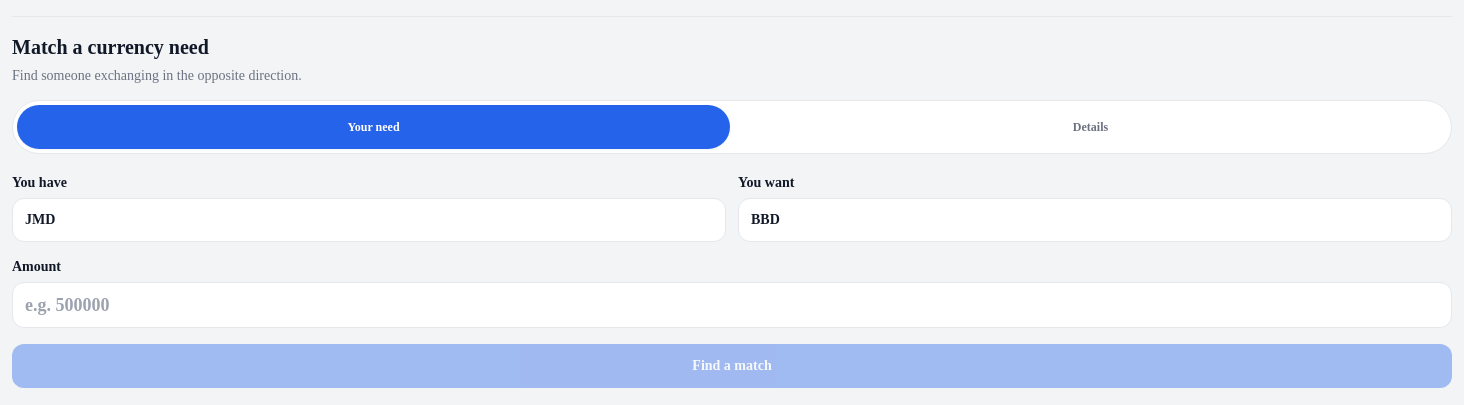
Scenario: FxNettingRail — walletless observer path (judges) › shows the observer preview line in review phase when walletless
The width and height of the screenshot is (1464, 405).
Step 1. Type "250000" into the number field named "Amount to convert" → (732, 305), box [12,282,1452,328]
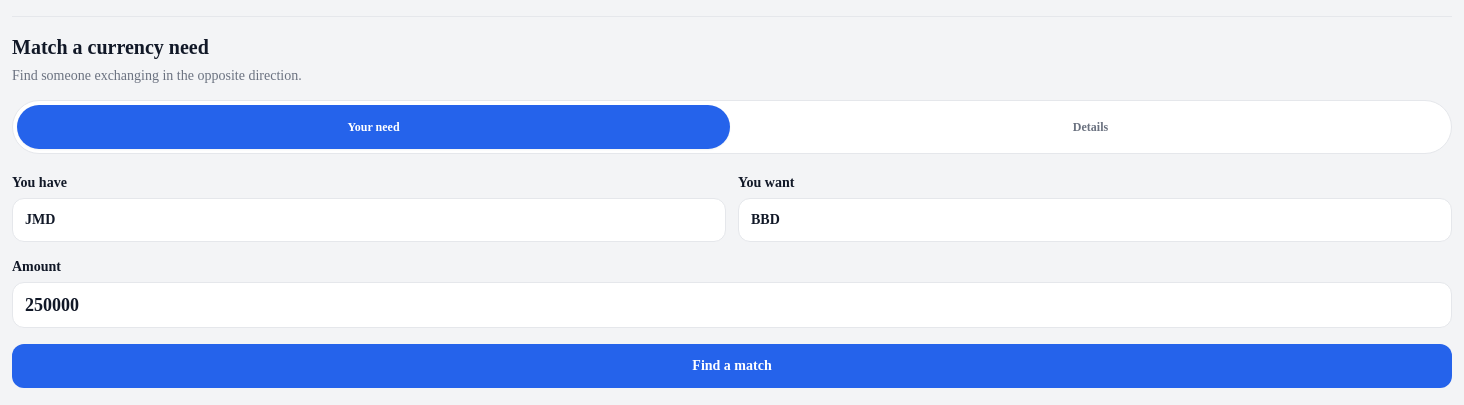
Step 2. Click the button "Find a match" → (732, 366), box [12,344,1452,388]
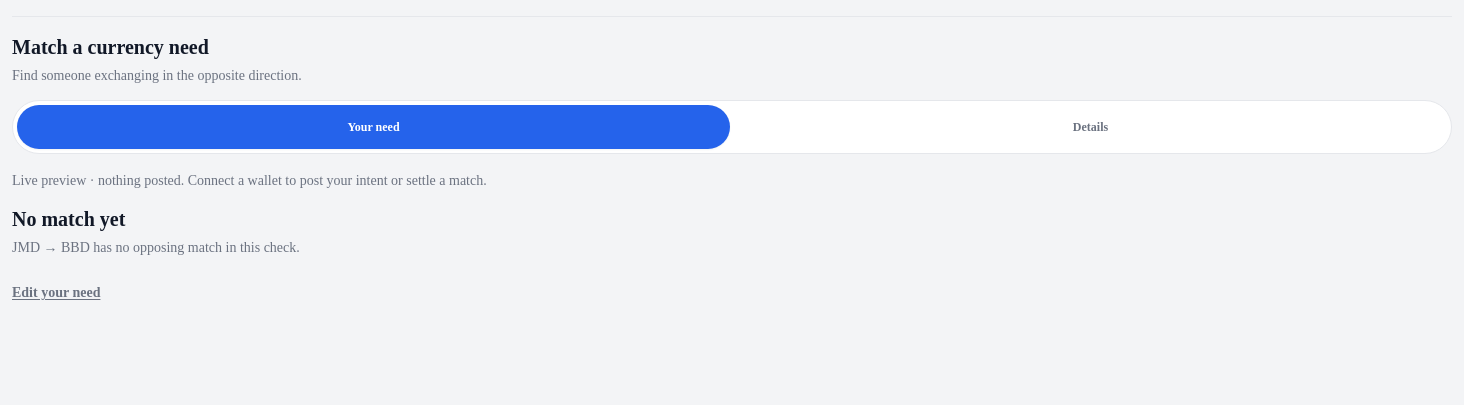
Result: the text with test id "fx-observer-banner" shows "Live preview · nothing posted" at [12,173,487,188]
Result: the text with test id "fx-observer-banner" shows "Connect a wallet to post your intent" at [12,173,487,188]
